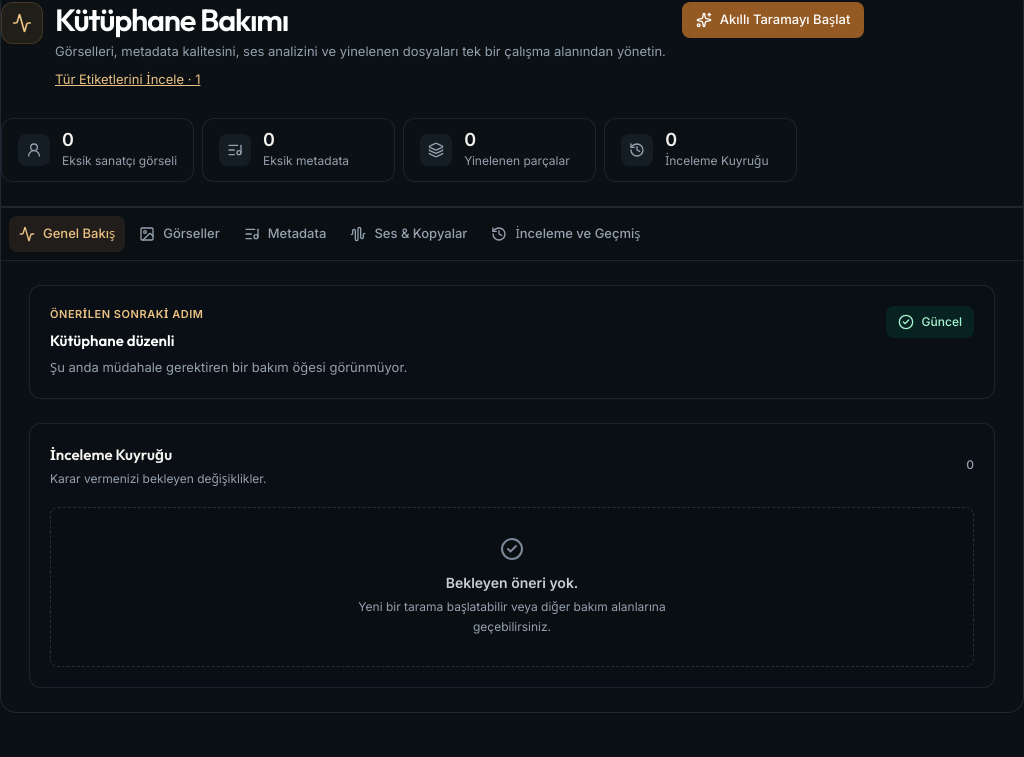
Test: maintenance coverage and genre review › adds complete-but-broad tags to explicit metadata review without invented confidence
Step 1. Click the button "Tür Etiketlerini İncele · 1" → (128, 80), box [55,70,200,90]
(page scrolled)
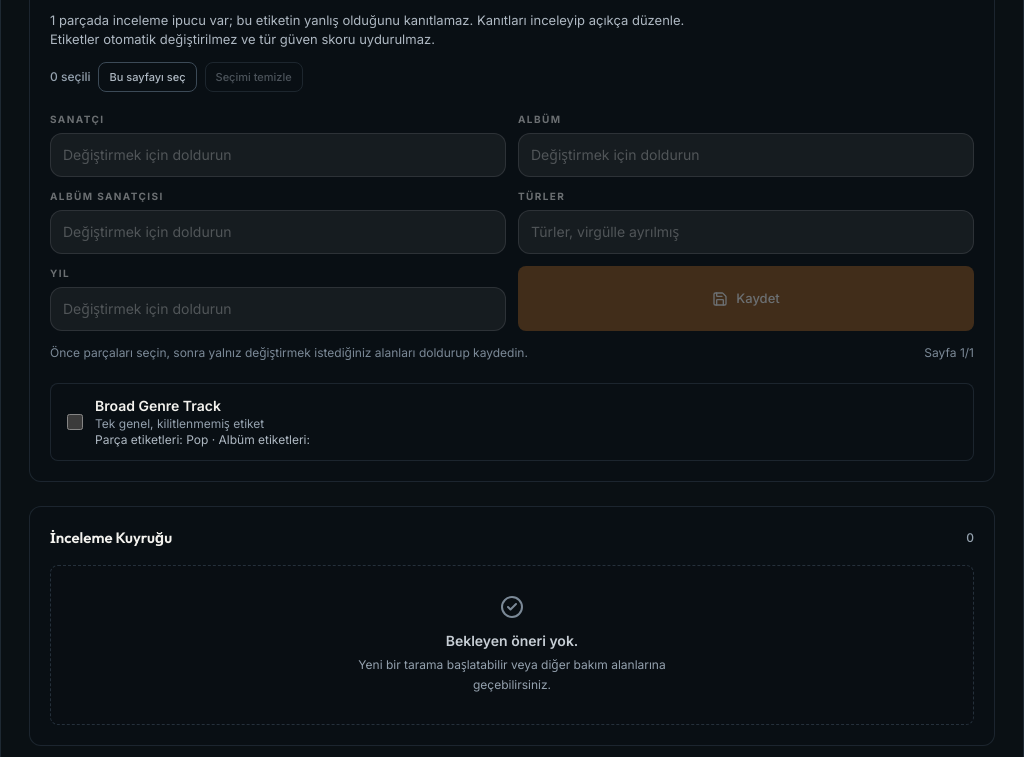
Result: the text "Broad Genre Track" is shown at [95,397,221,414]
Result: the text "Tek genel, kilitlenmemiş etiket" is shown at [95,416,264,431]
Result: the checkbox is not checked at [67,414,83,430]
